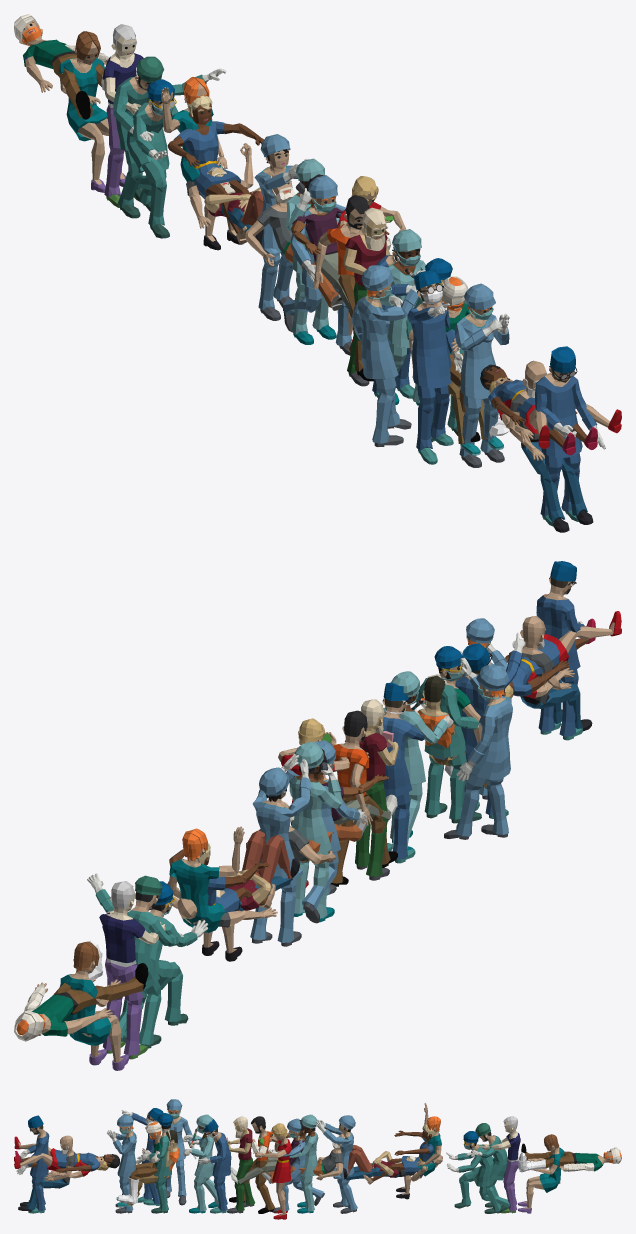
The model's file is poses.fbx.
The picture shows the model from 3 angles, top to bottom: view 1: azimuth 30°, elevation 25°; view 2: azimuth 150°, elevation 25°; view 3: azimuth 270°, elevation 25°; orthographic projection. The views are drawn at different scales.
Visible parts, largest first — view 1: pose_11, pose_6, pose_18, pose_28, pose_16, pose_14, pose_23, pose_26, pose_24, pose_29, pose_27, pose_12 (+17 smaller); view 2: pose_6, pose_23, pose_30, pose_27, pose_21, pose_5, pose_3, pose_26, pose_28, pose_22, pose_8, pose_24 (+16 smaller); view 3: pose_16, pose_27, pose_2, pose_23, pose_8, pose_22, pose_18, pose_20, pose_28, pose_26, pose_24, pose_3 (+17 smaller).
Boxes of the visible parts, bbox=[...] form: pose_11: bbox=[407, 270, 463, 464]; pose_6: bbox=[352, 265, 425, 446]; pose_18: bbox=[455, 283, 509, 467]; pose_28: bbox=[535, 346, 605, 526]; pose_16: bbox=[126, 79, 180, 238]; pose_14: bbox=[167, 95, 263, 243]; pose_23: bbox=[254, 134, 309, 320]; pose_26: bbox=[113, 56, 226, 218]; pose_24: bbox=[58, 31, 126, 192]; pose_29: bbox=[509, 360, 593, 532]; pose_27: bbox=[14, 14, 137, 119]; pose_12: bbox=[283, 175, 386, 355]; pose_6: bbox=[444, 657, 512, 839]; pose_23: bbox=[250, 754, 310, 946]; pose_30: bbox=[99, 881, 165, 1059]; pose_27: bbox=[14, 940, 148, 1041]; pose_21: bbox=[167, 826, 244, 961]; pose_5: bbox=[416, 646, 481, 823]; pose_3: bbox=[289, 741, 342, 922]; pose_26: bbox=[87, 873, 183, 1048]; pose_28: bbox=[536, 561, 584, 740]; pose_22: bbox=[345, 699, 398, 880]; pose_8: bbox=[370, 682, 424, 863]; pose_24: bbox=[60, 941, 129, 1070]; pose_16: bbox=[446, 1131, 510, 1212]; pose_27: bbox=[518, 1143, 621, 1172]; pose_2: bbox=[183, 1114, 219, 1213]; pose_23: bbox=[316, 1115, 357, 1213]; pose_8: bbox=[189, 1118, 231, 1213]; pose_22: bbox=[226, 1116, 255, 1213]; pose_18: bbox=[107, 1114, 136, 1213]; pose_20: bbox=[253, 1123, 291, 1219]; pose_28: bbox=[16, 1115, 49, 1213]; pose_26: bbox=[466, 1123, 507, 1213]; pose_24: bbox=[518, 1134, 564, 1213]; pose_3: bbox=[289, 1114, 318, 1213].
Bounding box in the file's own units: 1.42 × 1.75 × 9.75.
